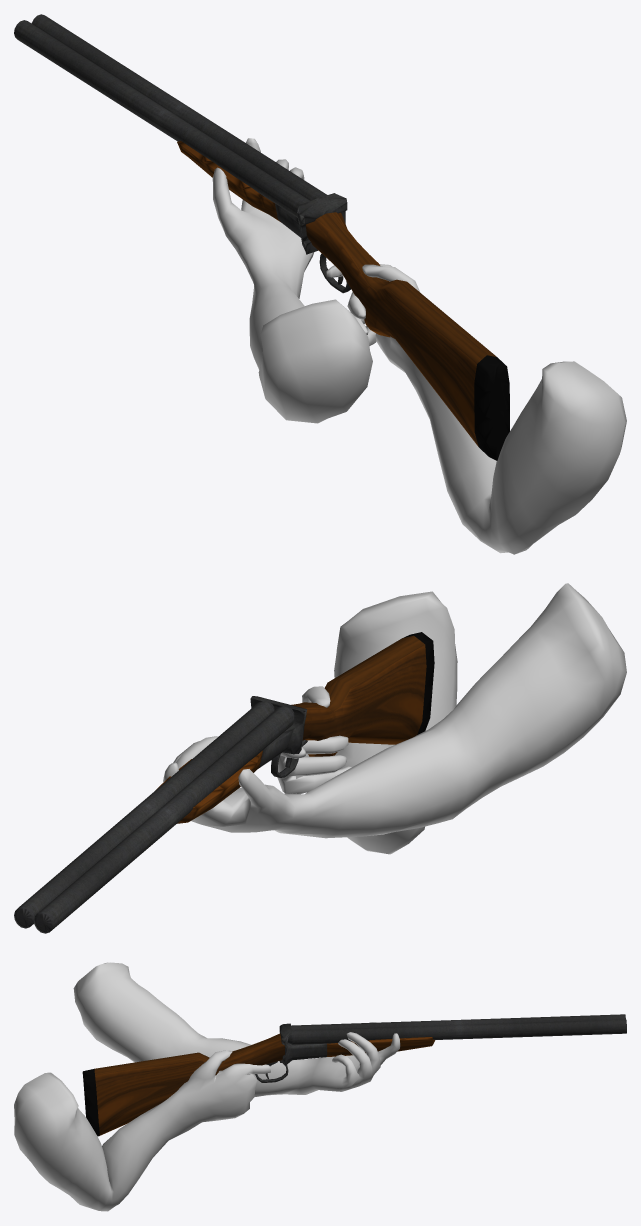
Rendered from Shotgun.fbx.
The picture shows the model from 3 angles, top to bottom: view 1: azimuth 30°, elevation 25°; view 2: azimuth 150°, elevation 25°; view 3: azimuth 270°, elevation 25°; orthographic projection. The views are drawn at different scales.
Parts seen in each view (by area): view 1: Shotgun1; view 2: Shotgun1; view 3: Shotgun1.
Part boxes in pixels (x1,y1,x2,y2): Shotgun1: [14, 14, 626, 554]; Shotgun1: [14, 583, 626, 933]; Shotgun1: [14, 962, 626, 1211].
Bounding box in the file's own units: 18.53 × 16.94 × 48.94.
